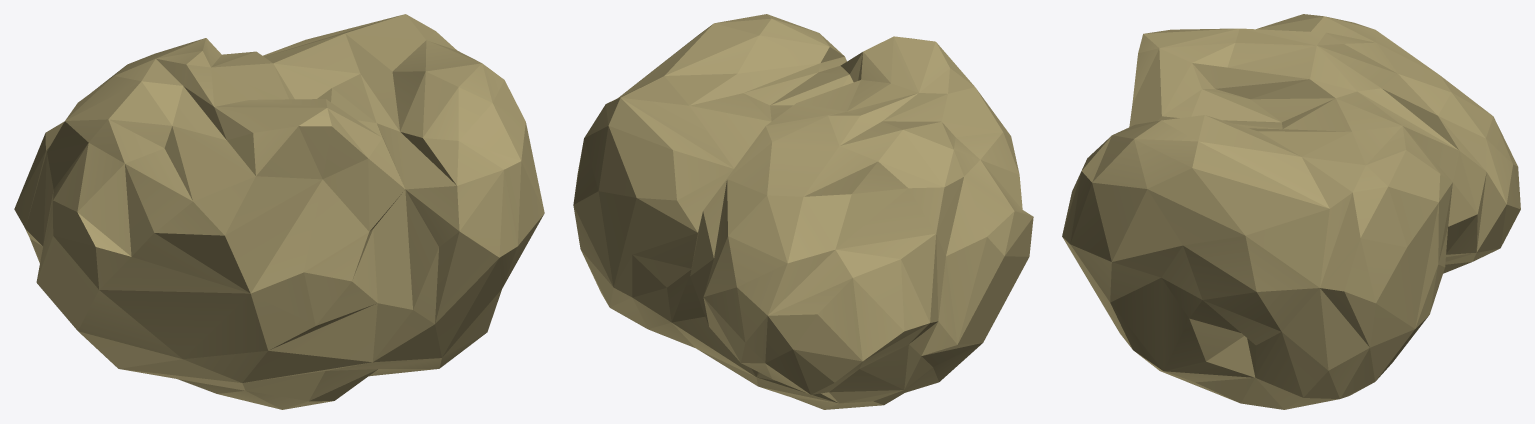
Rendered from SM_rock_19.fbx.
3 views of the same model, side by side, from view 1: azimuth 30°, elevation 25°; view 2: azimuth 150°, elevation 25°; view 3: azimuth 270°, elevation 25° (orthographic). The views are drawn at different scales.
Visible parts, largest first — view 1: rock_19; view 2: rock_19; view 3: rock_19.
Part boxes in pixels (<box>): rock_19: <box>14,14,544,409</box>; rock_19: <box>573,14,1033,409</box>; rock_19: <box>1062,14,1520,409</box>.
Size of the model in its own units: 309 by 214 by 294.
